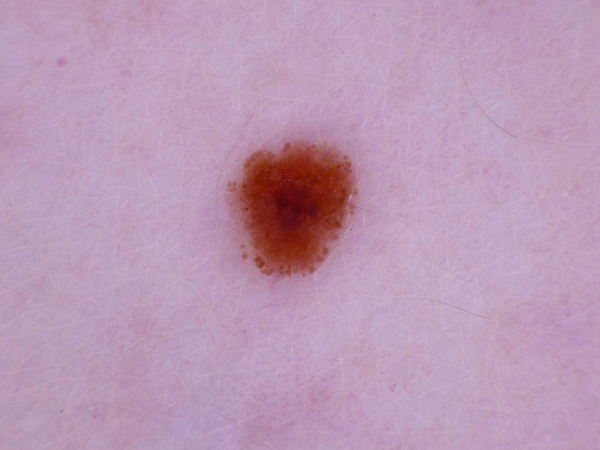Detected Lesion: (223, 133, 360, 283)
